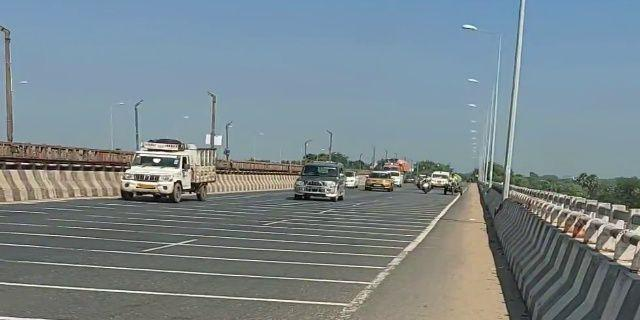Car: (289, 159, 347, 206), (363, 168, 396, 193), (429, 166, 450, 190)
Minitruck: (117, 133, 219, 205)
